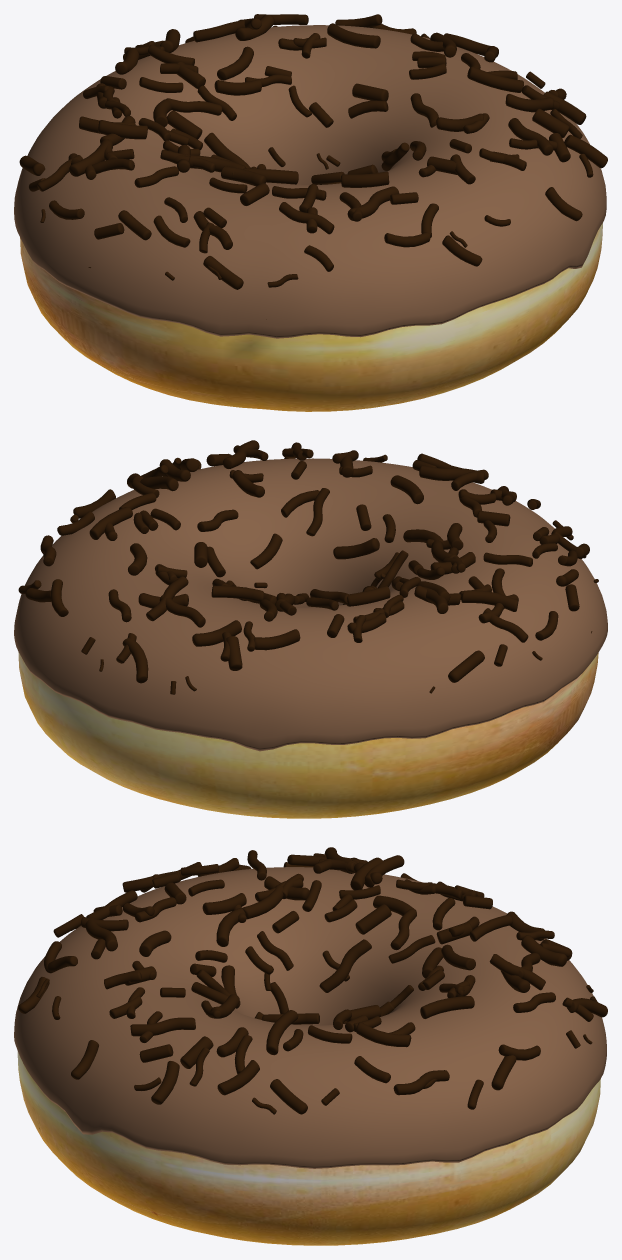
The model's file is coffee chocolate vermicheli.glb.
3 views of the same model, one above another, from view 1: azimuth 30°, elevation 25°; view 2: azimuth 150°, elevation 25°; view 3: azimuth 270°, elevation 25° (orthographic). The views are drawn at different scales.
Visible parts, largest first — view 1: chocolate.001, w chocolate, Torus; view 2: chocolate.001, Torus, w chocolate; view 3: chocolate.001, w chocolate, Torus.
Boxes of the visible parts, box(x1,y1,x2,y2) form: chocolate.001: box(14, 25, 606, 338); w chocolate: box(19, 14, 607, 319); Torus: box(20, 223, 602, 411); chocolate.001: box(14, 458, 607, 751); Torus: box(18, 652, 598, 818); w chocolate: box(18, 440, 598, 694); chocolate.001: box(14, 867, 606, 1168); w chocolate: box(18, 847, 607, 1114); Torus: box(17, 1051, 600, 1245).
Bounding box in the file's own units: 0.1995 × 0.0811 × 0.198.
Materials: 3 (1 with a texture image).
